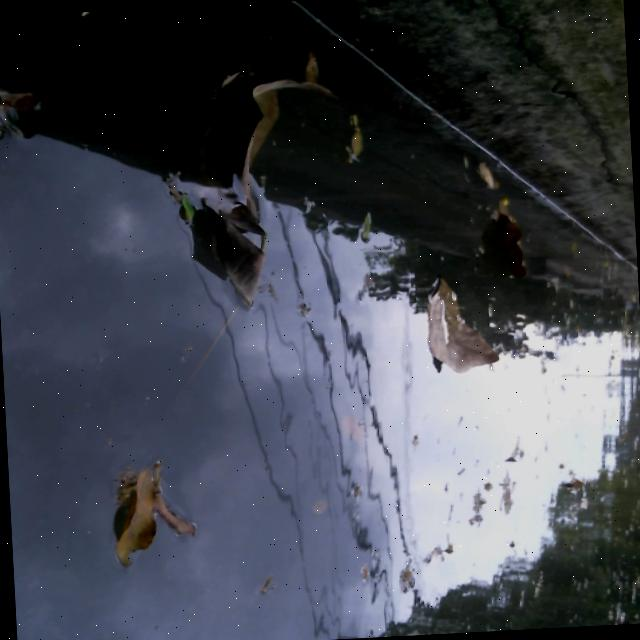Big-leaf: (231, 56, 335, 221), (186, 188, 282, 312), (415, 269, 504, 383), (481, 196, 531, 278)
Small-leaf: (111, 461, 158, 566), (147, 455, 202, 544), (0, 84, 48, 118), (342, 111, 372, 164), (466, 160, 508, 192), (352, 206, 383, 247), (254, 570, 283, 598), (392, 565, 417, 593), (306, 493, 331, 519), (558, 474, 584, 495), (0, 115, 11, 143)
